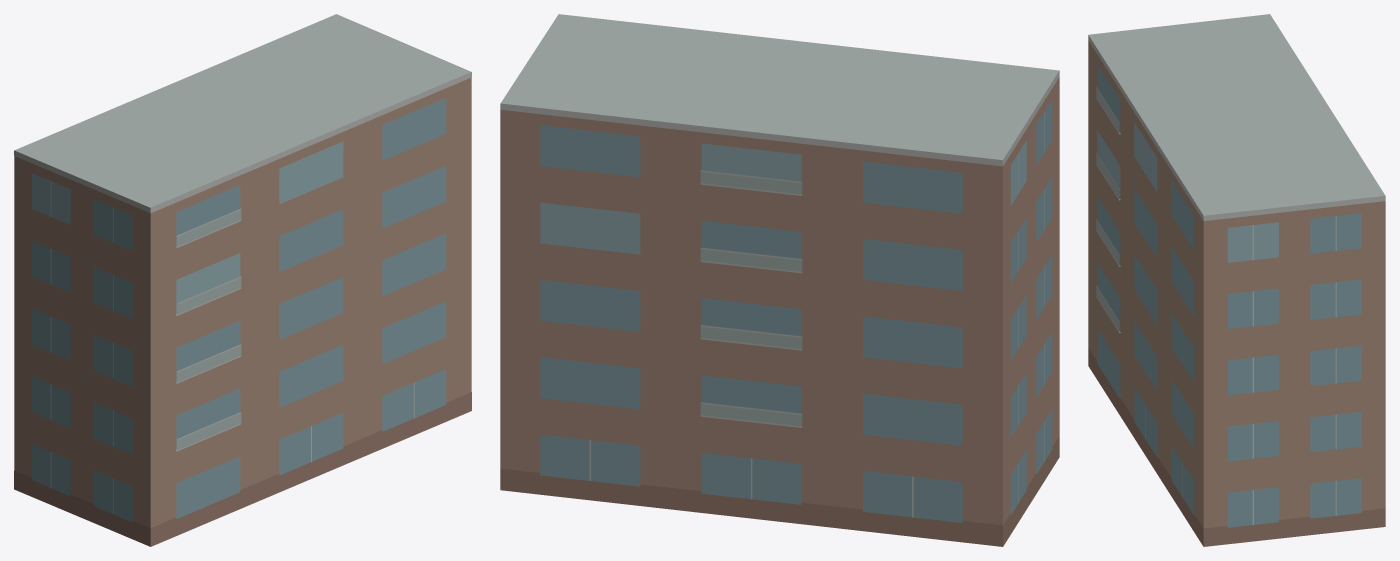
File: survey-upis-32713585.glb
3 renders of one model, left to right at view 1: azimuth 30°, elevation 25°; view 2: azimuth 150°, elevation 25°; view 3: azimuth 270°, elevation 25°, orthographic. The views are drawn at different scales.
Parts seen in each view (by area): view 1: survey-upis-32713585.tmp; view 2: survey-upis-32713585.tmp; view 3: survey-upis-32713585.tmp.
Boxes of the visible parts, x1,y1,x2,y2 form: survey-upis-32713585.tmp: [14, 14, 471, 546]; survey-upis-32713585.tmp: [500, 14, 1059, 546]; survey-upis-32713585.tmp: [1088, 14, 1385, 546].
Bounding box in the file's own units: 19.95 × 15.25 × 12.42.
